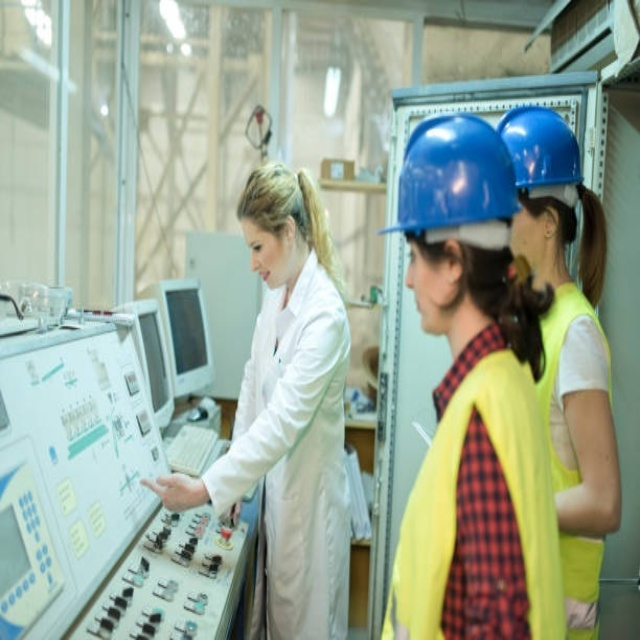Sin_gafas: (407, 242, 427, 287), (247, 231, 275, 260)
Sin_guantes: (142, 471, 201, 513)
Sin_mascara: (408, 285, 440, 334), (253, 264, 283, 292)
